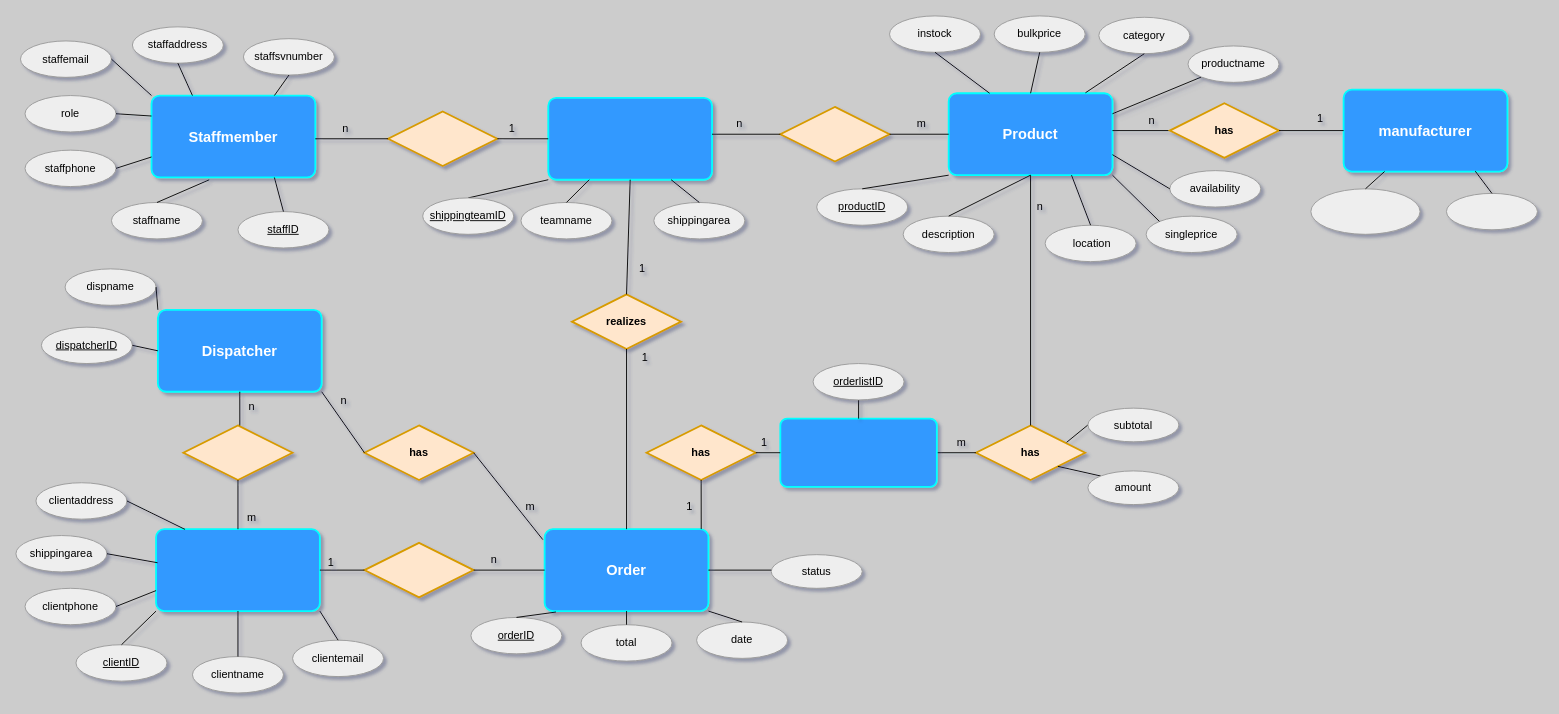
Image size: 1559x714. Some labels were removed from this diagram. The shapes that lost their labels are listed below. From the top down, each one's centre as x and y in pixels, then its label:
At point 442,138: "is in".
At point 630,138: "Shipping Team".
At point 834,134: "ships".
At point 1365,211: "manuname".
At point 1491,211: "manuID".
At point 237,452: "delivers".
At point 858,452: "OrderList".
At point 237,570: "Client".
At point 418,569: "places".
